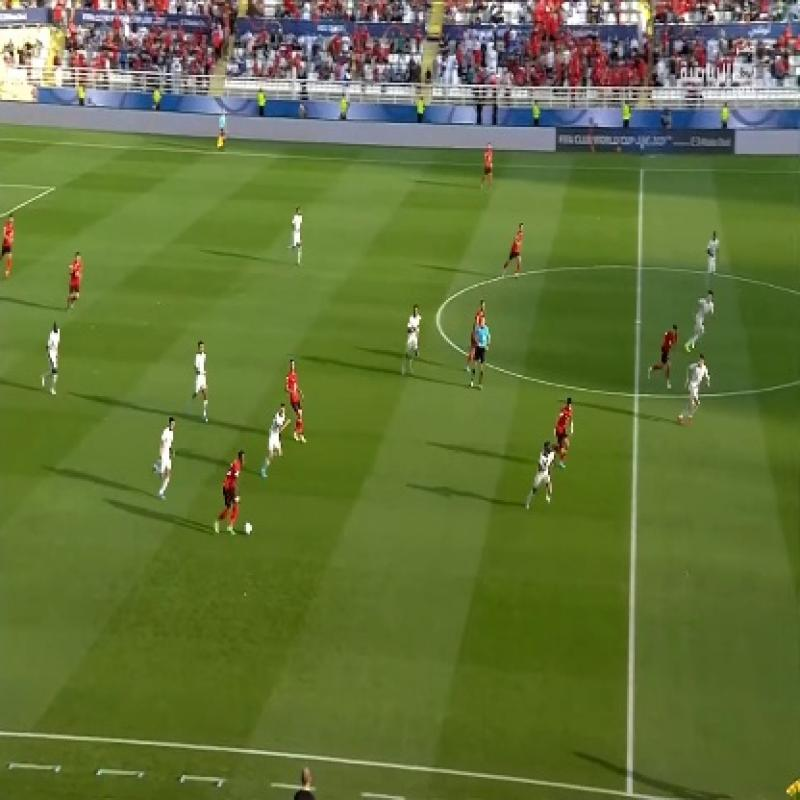13: (632, 156, 650, 179)
14: (627, 252, 652, 279)
15: (623, 375, 650, 412)
16: (606, 761, 654, 800)
9: (40, 175, 60, 198)
c: (424, 301, 456, 330)
